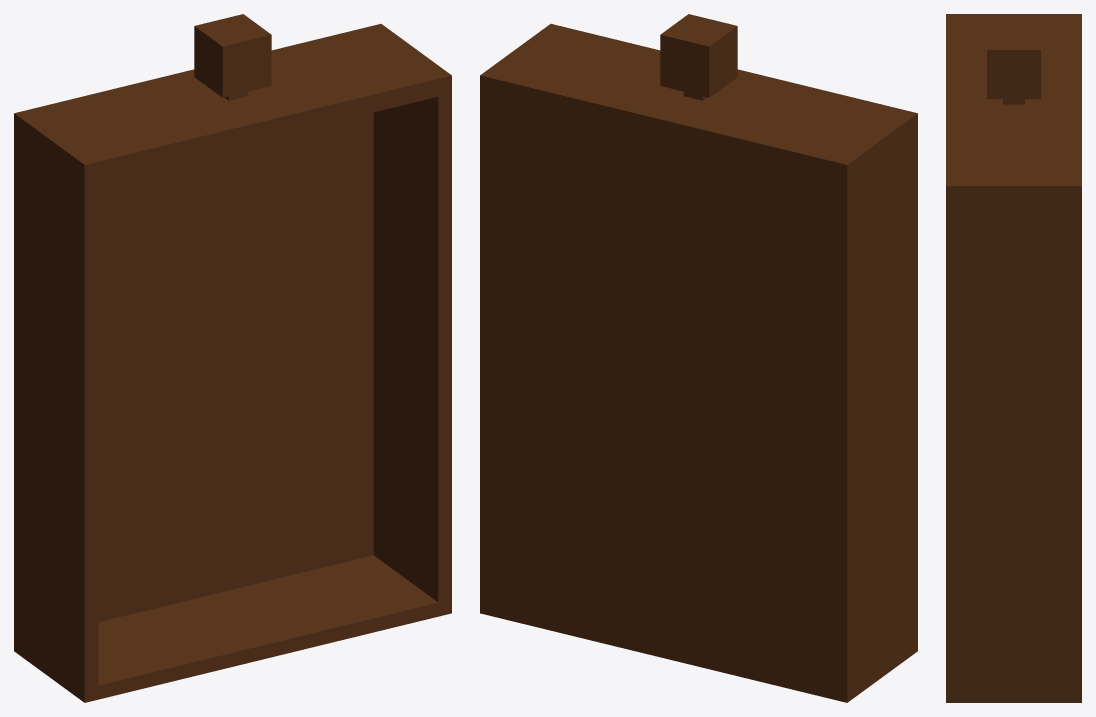
Rendered from upper_drawer.obj.
The picture shows the model from 3 angles, left to right: view 1: azimuth 30°, elevation 25°; view 2: azimuth 150°, elevation 25°; view 3: azimuth 270°, elevation 25°; orthographic projection. The views are drawn at different scales.
Parts seen in each view (by area): view 1: upper_drawer; view 2: upper_drawer; view 3: upper_drawer.
Boxes of the visible parts, x1,y1,x2,y2 form: upper_drawer: (14,14,451,702); upper_drawer: (480,14,917,702); upper_drawer: (946,14,1081,702).
Size of the model in its own units: 0.15 by 0.235 by 0.05.
